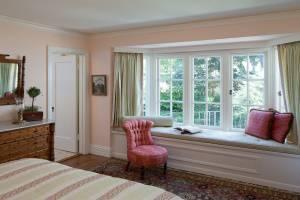window: (113, 47, 292, 143)
